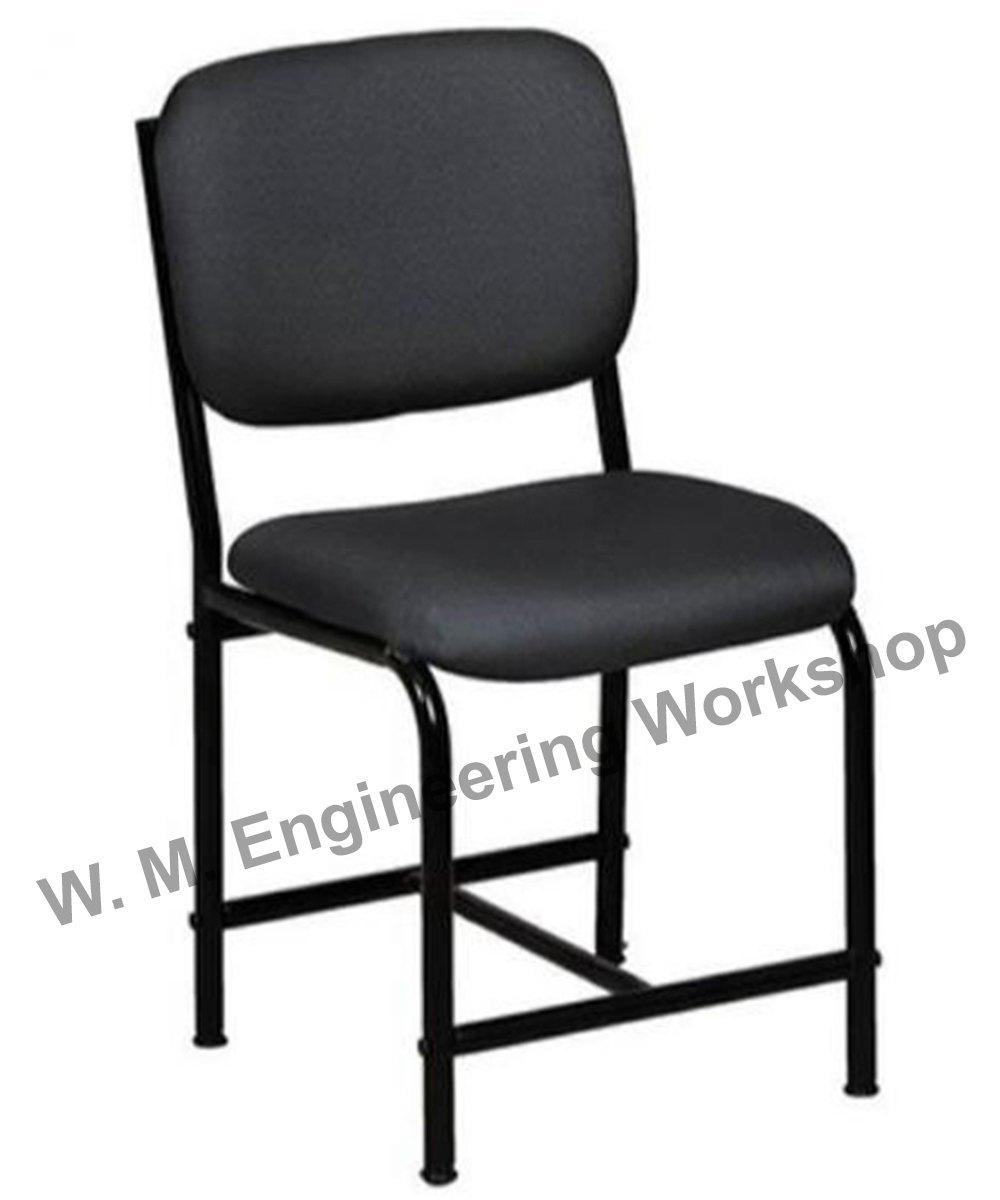chair: (118, 11, 905, 1183)
